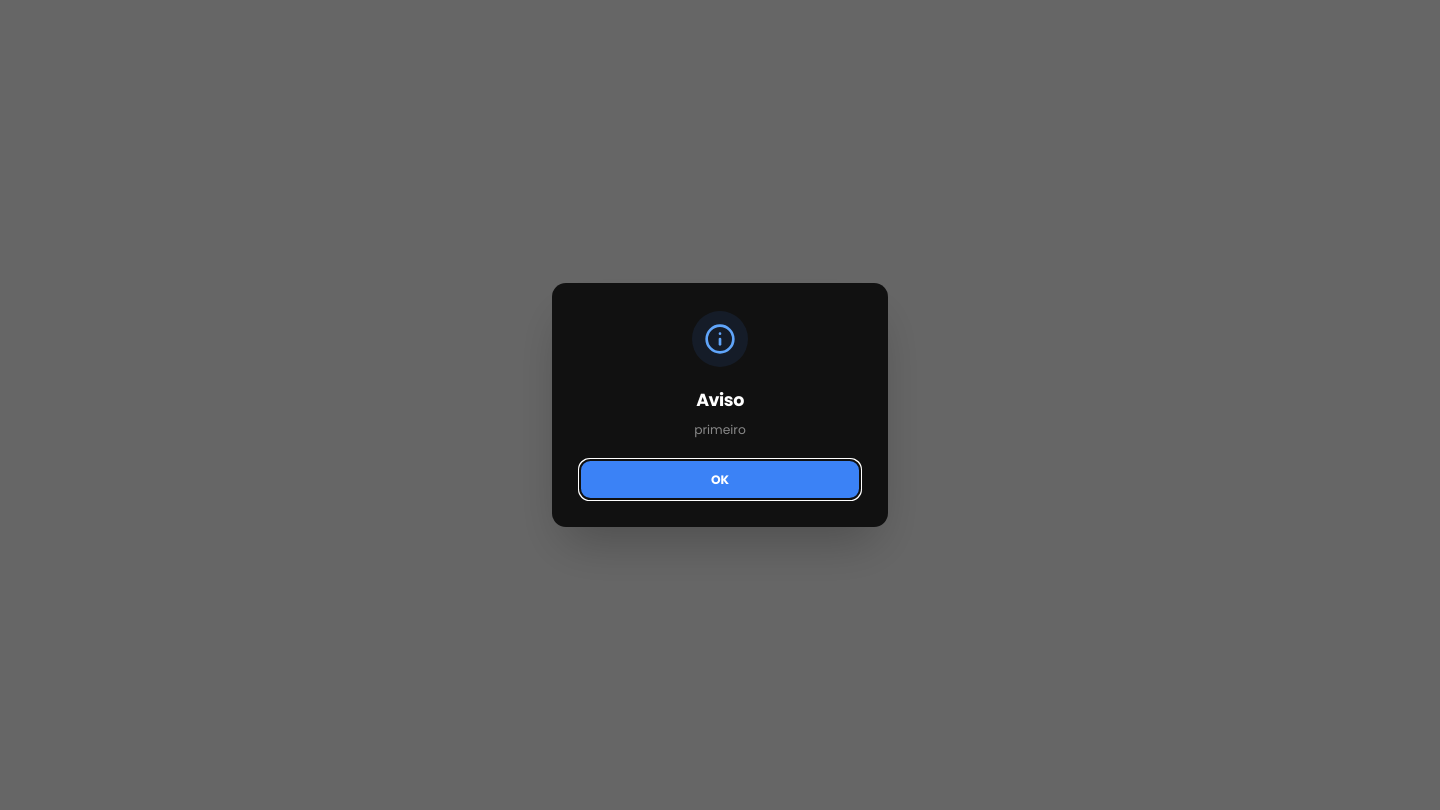
Test: diálogos do app › vários seguidos entram em fila, um de cada vez
Later steps or results of the test are not shown.
Expected: the dialog shows "primeiro", [694,420,746,438]
Click the button "OK" at x=720, y=480, box [580,460,860,499]
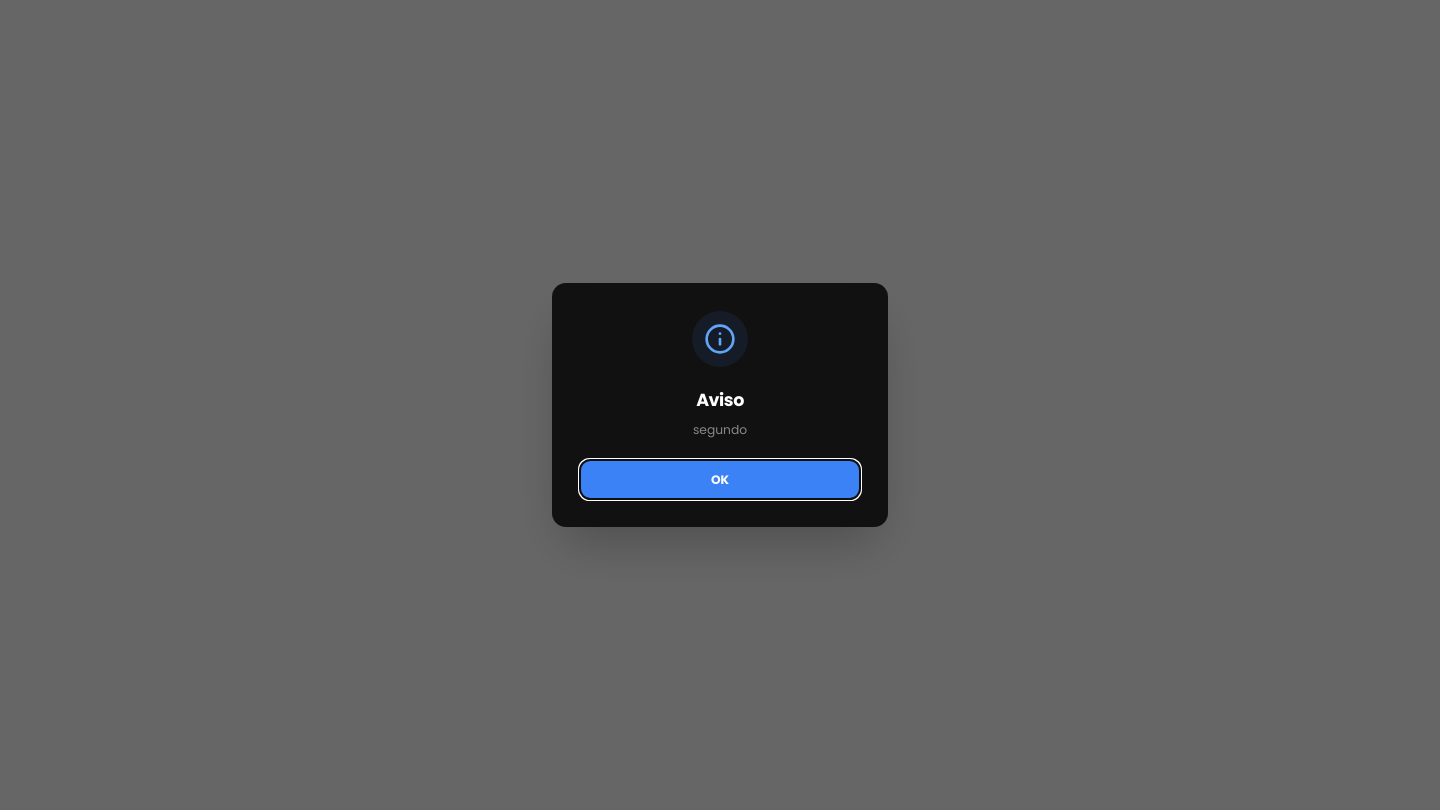
Expected: the text "segundo" is shown, [693,420,747,438]
